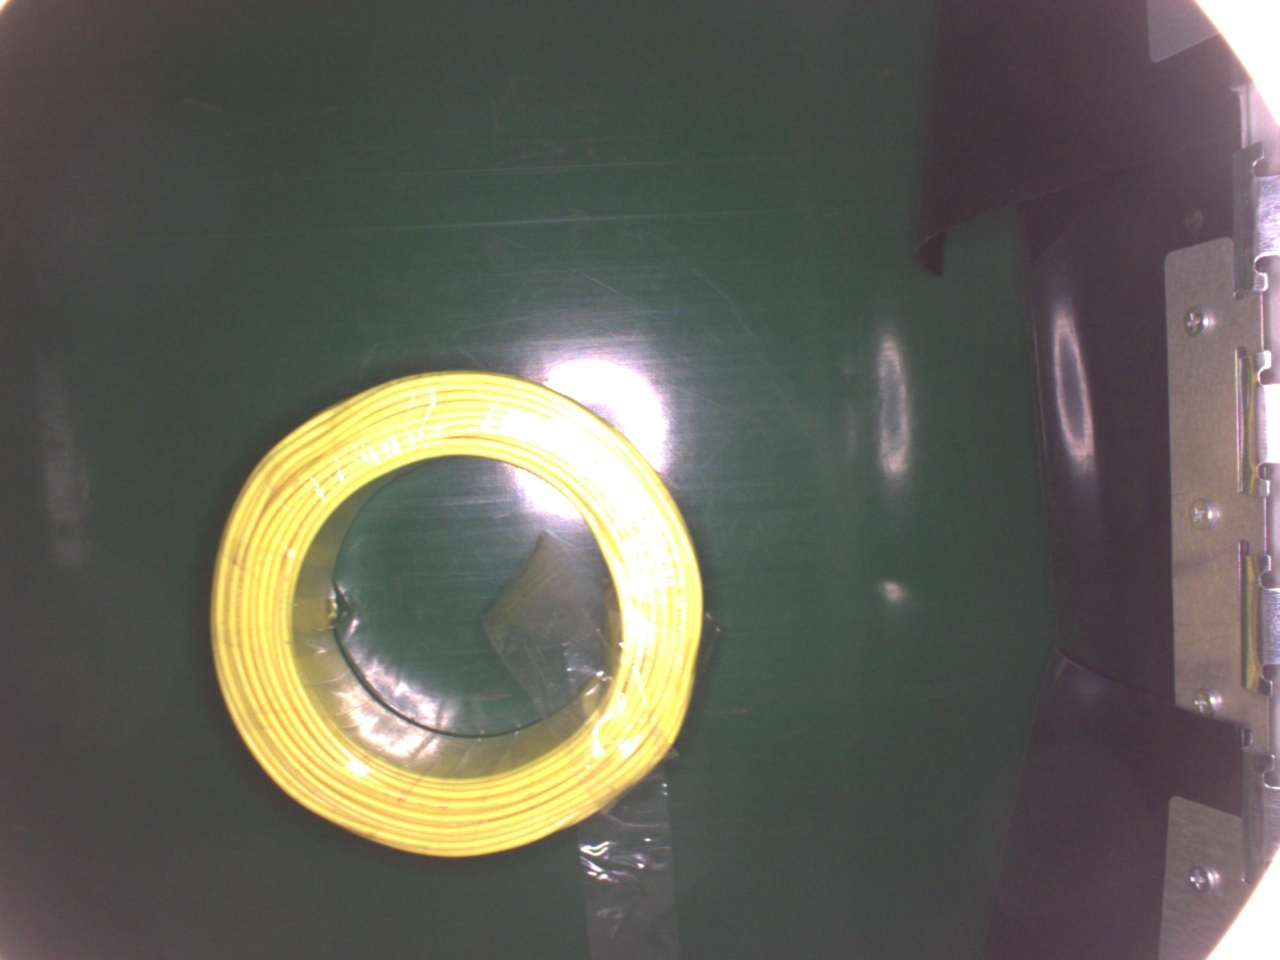yellow: (209, 367, 700, 858)
